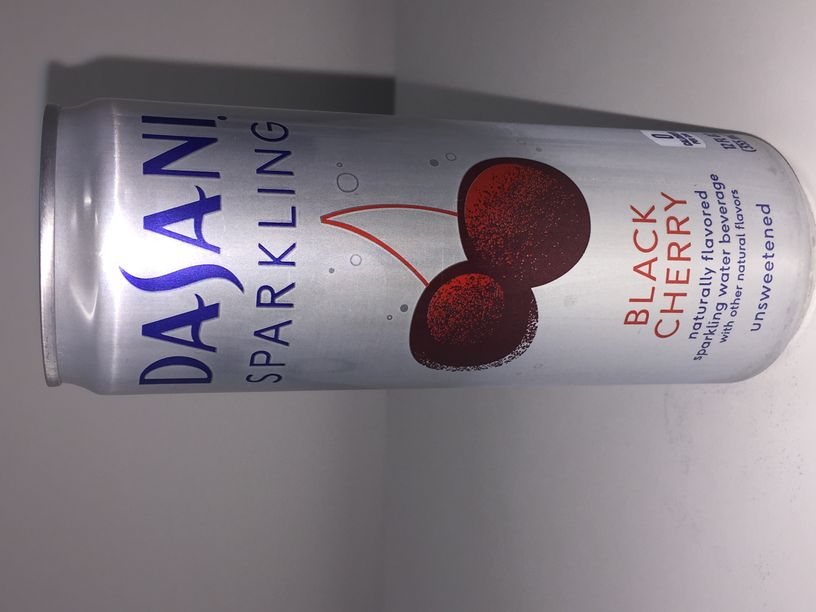blackcherry: (37, 99, 816, 397)
